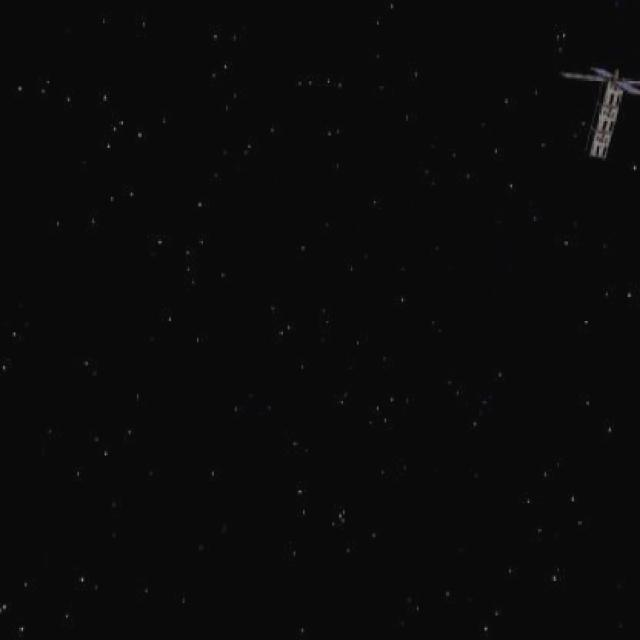medium_debris: (555, 60, 640, 166)
